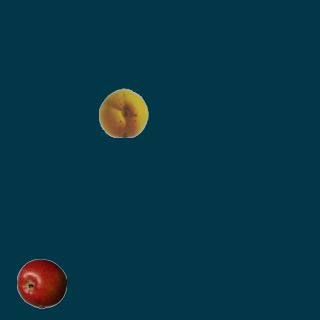Apple Braeburn: (16, 258, 66, 308)
Peach 2: (98, 87, 148, 137)
